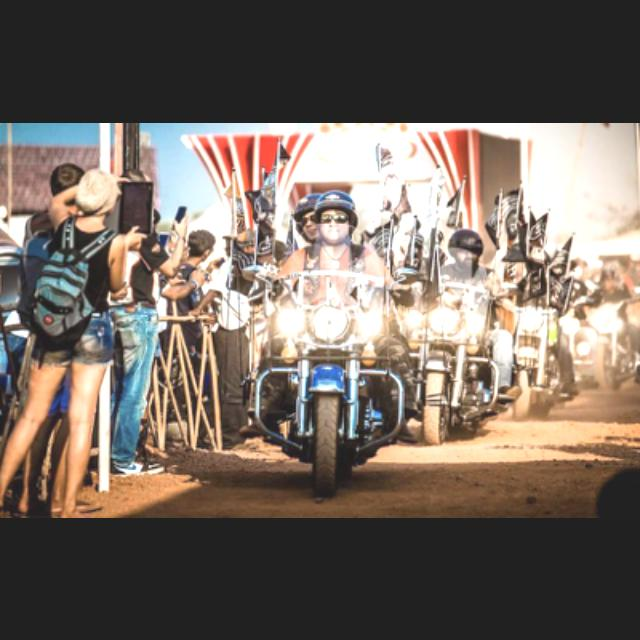With Helmet: (314, 191, 358, 241), (446, 228, 488, 270)
